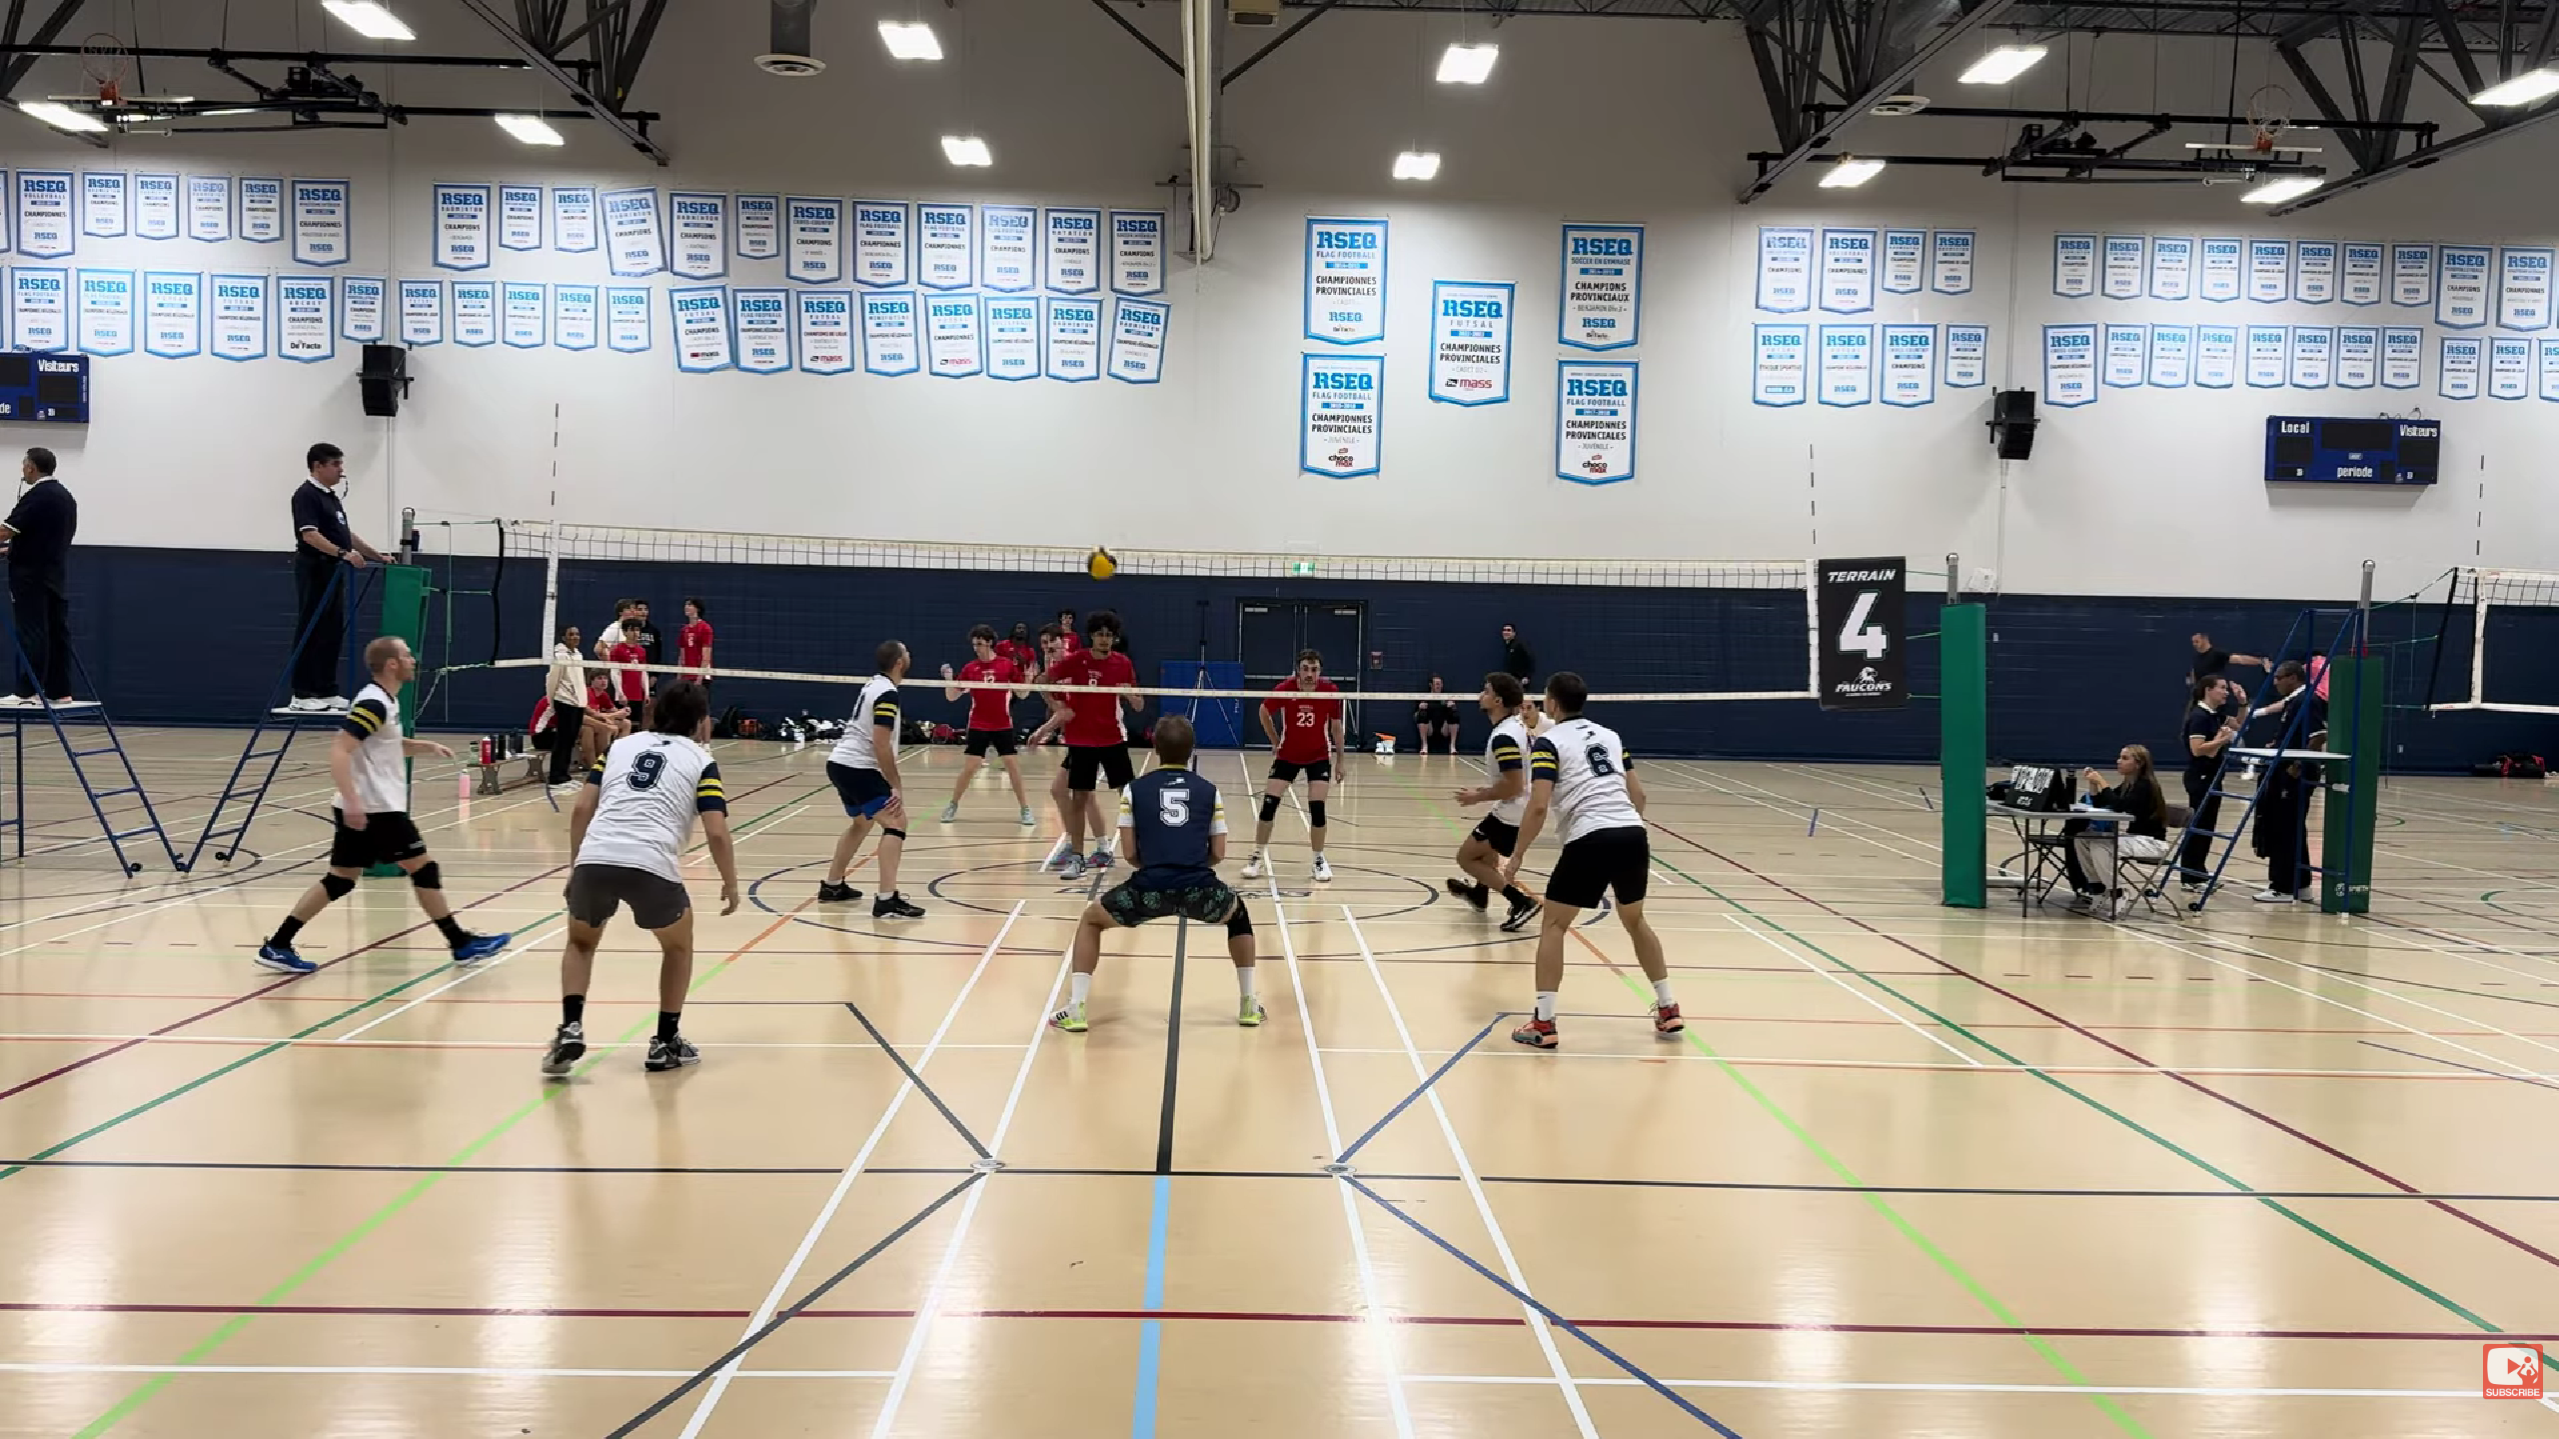Ball: (1084, 545, 1120, 582)
